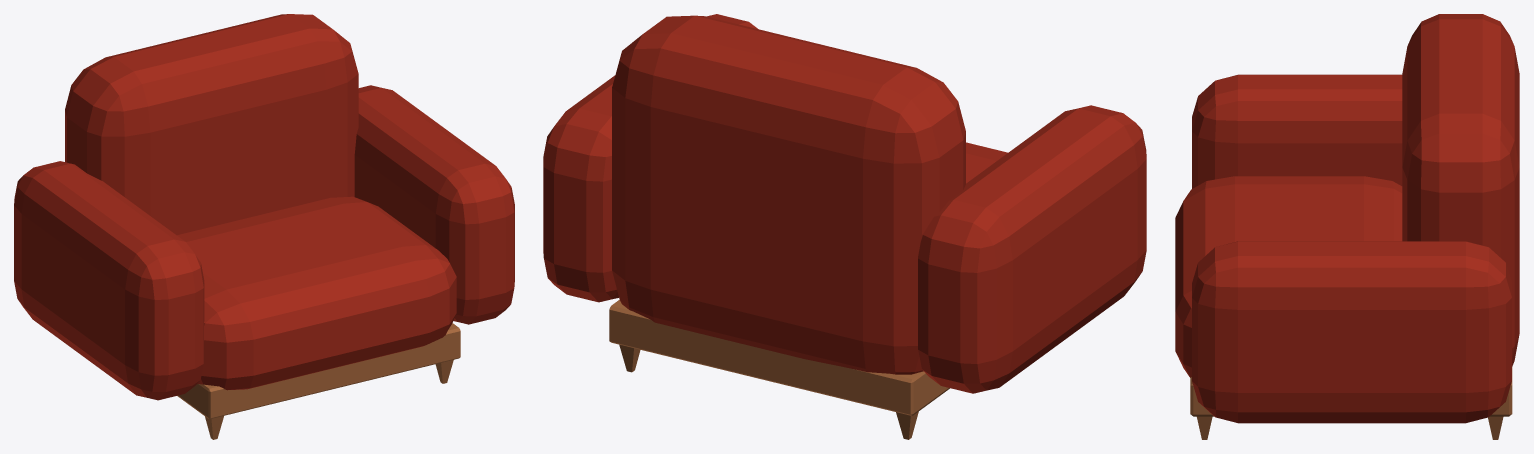
Rendered from Sofa B.glb.
3 views of the same model, side by side, from view 1: azimuth 30°, elevation 25°; view 2: azimuth 150°, elevation 25°; view 3: azimuth 270°, elevation 25° (orthographic). The views are drawn at different scales.
Parts seen in each view (by area): view 1: Sofa B; view 2: Sofa B; view 3: Sofa B.
Boxes of the visible parts, box(x1,y1,x2,y2) form: Sofa B: box(14, 14, 514, 439); Sofa B: box(543, 14, 1146, 439); Sofa B: box(1175, 14, 1519, 439).
Size of the model in its own units: 616 by 435 by 437.
